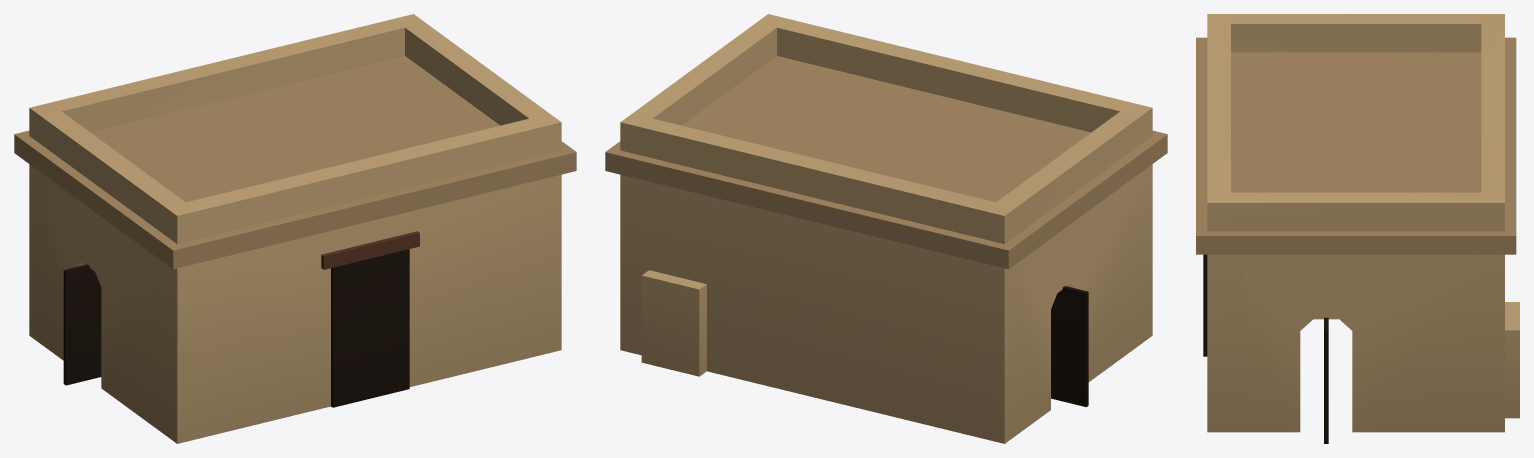
The model's file is independence_community_house_lod0.glb.
3 views of the same model, side by side, from view 1: azimuth 30°, elevation 25°; view 2: azimuth 150°, elevation 25°; view 3: azimuth 270°, elevation 25° (orthographic).
Parts seen in each view (by area): view 1: GEO-Arch_independence_community_house_LOD0; view 2: GEO-Arch_independence_community_house_LOD0; view 3: GEO-Arch_independence_community_house_LOD0.
Boxes of the visible parts, <box> form: GEO-Arch_independence_community_house_LOD0: <box>14,14,576,443</box>; GEO-Arch_independence_community_house_LOD0: <box>605,14,1167,443</box>; GEO-Arch_independence_community_house_LOD0: <box>1196,14,1519,443</box>.
Bounding box in the file's own units: 6.74 × 3.4 × 4.35.
